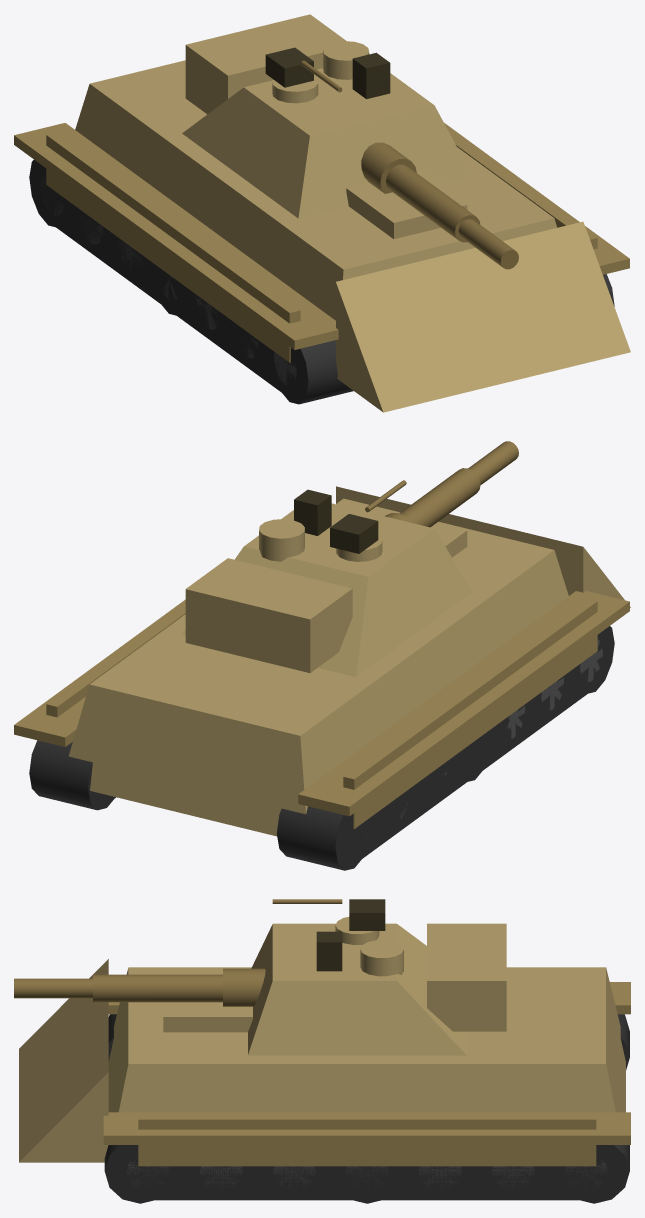
The model's file is abrams.glb.
3 renders of one model, top to bottom at view 1: azimuth 30°, elevation 25°; view 2: azimuth 150°, elevation 25°; view 3: azimuth 270°, elevation 25°, orthographic. The views are drawn at different scales.
Visible parts, largest first — view 1: 车首斜板, 车体, 炮塔, 左挡泥板, 左侧裙板, 左履带, 尾部储物篮, 左主动轮 (×3), 驾驶舱凸起, 热护套, 右侧裙板, 车长瞄准镜 (+6 smaller); view 2: 车体, 炮塔, 尾部储物篮, 左挡泥板, 左侧裙板, 左履带, 左主动轮 (×2), 车首斜板, 右主动轮, 右挡泥板, 热护套, 右侧裙板 (+5 smaller); view 3: 车体, 炮塔, 右侧裙板, 右履带, 车首斜板, 右挡泥板, 尾部储物篮, 右主动轮 (×3), 热护套, 驾驶舱凸起, 右轮毂 (×4), M256 主炮 (+6 smaller).
Part boxes in pixels (left/top/right/bottom): 车首斜板: left=336, top=221, right=630, bottom=412; 车体: left=75, top=60, right=556, bottom=320; 炮塔: left=182, top=68, right=472, bottom=218; 左挡泥板: left=14, top=123, right=338, bottom=349; 左侧裙板: left=46, top=132, right=300, bottom=362; 左履带: left=48, top=186, right=289, bottom=397; 尾部储物篮: left=185, top=14, right=346, bottom=114; 左主动轮 (×3): left=29, top=160, right=353, bottom=404; 驾驶舱凸起: left=346, top=170, right=467, bottom=238; 热护套: left=386, top=164, right=480, bottom=242; 右侧裙板: left=446, top=127, right=597, bottom=249; 车长瞄准镜: left=352, top=52, right=390, bottom=99; 车体: left=68, top=498, right=568, bottom=836; 炮塔: left=182, top=503, right=472, bottom=676; 尾部储物篮: left=185, top=558, right=352, bottom=672; 左挡泥板: left=298, top=591, right=629, bottom=816; 左侧裙板: left=343, top=598, right=597, bottom=828; 左履带: left=354, top=664, right=595, bottom=864; 左主动轮 (×2): left=276, top=626, right=614, bottom=870; 车首斜板: left=336, top=486, right=630, bottom=607; 右主动轮: left=29, top=740, right=115, bottom=810; 右挡泥板: left=14, top=599, right=185, bottom=746; 热护套: left=399, top=468, right=480, bottom=527; 右侧裙板: left=46, top=602, right=185, bottom=717; 车体: left=108, top=967, right=625, bottom=1112; 炮塔: left=248, top=923, right=466, bottom=1055; 右侧裙板: left=138, top=1114, right=596, bottom=1166; 右履带: left=140, top=1166, right=594, bottom=1200; 车首斜板: left=19, top=959, right=108, bottom=1162; 右挡泥板: left=103, top=1112, right=630, bottom=1144; 尾部储物篮: left=427, top=923, right=506, bottom=1031; 右主动轮 (×3): left=104, top=1145, right=629, bottom=1203; 热护套: left=93, top=974, right=222, bottom=1002; 驾驶舱凸起: left=163, top=1002, right=252, bottom=1032; 右轮毂 (×4): left=200, top=1166, right=534, bottom=1190; M256 主炮: left=14, top=978, right=92, bottom=998.
Size of the model in its own units: 3.66 by 2.44 by 6.2.
